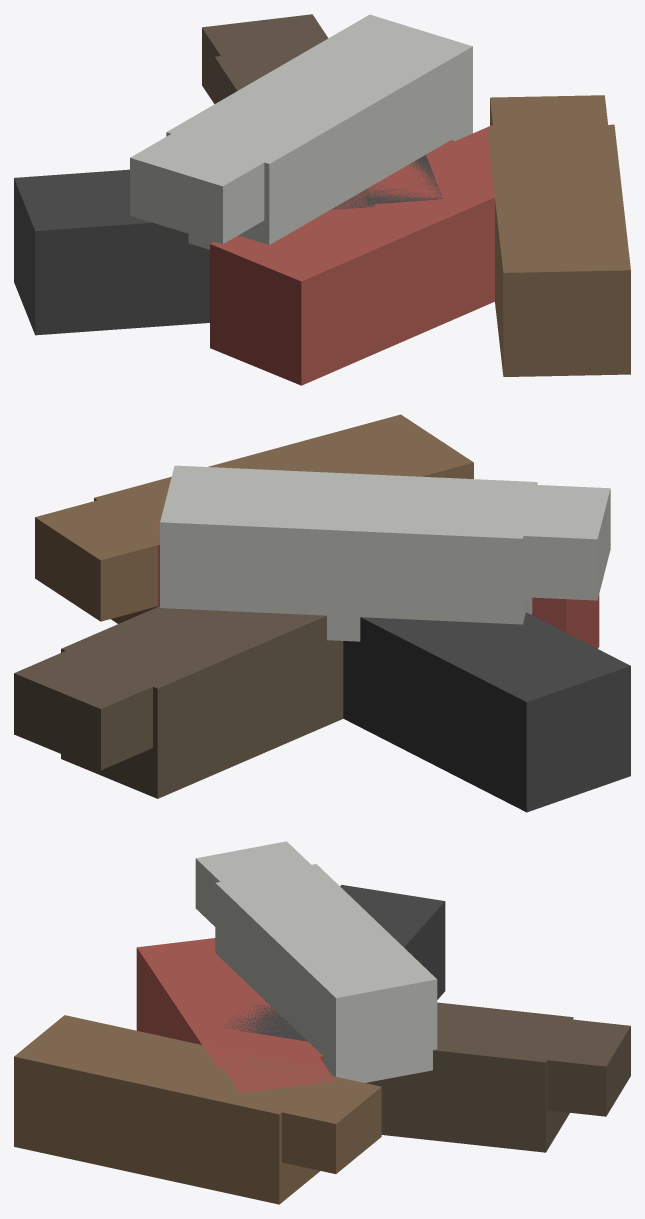
Rendered from shoe_pile.glb.
3 views of the same model, one above another, from view 1: azimuth 30°, elevation 25°; view 2: azimuth 150°, elevation 25°; view 3: azimuth 270°, elevation 25° (orthographic). The views are drawn at different scales.
Parts seen in each view (by area): view 1: Shoes; view 2: Shoes; view 3: Shoes.
Boxes of the visible parts, <box> form: Shoes: <box>14,14,630,385</box>; Shoes: <box>14,414,630,812</box>; Shoes: <box>14,841,630,1204</box>.
Bounding box in the file's own units: 0.512 × 0.16 × 0.5578.
